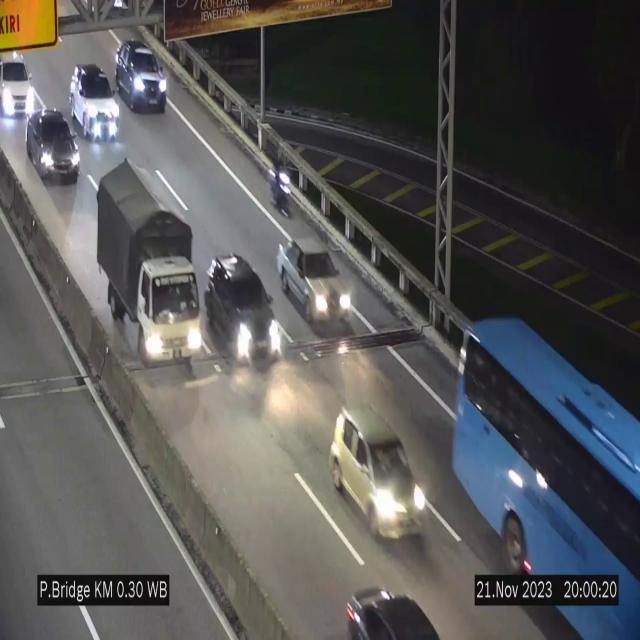Car: (326, 404, 426, 546), (202, 250, 281, 367), (277, 238, 354, 334), (24, 108, 82, 186), (70, 64, 120, 141), (115, 41, 167, 112), (0, 49, 37, 121)
Motorcycle: (267, 148, 295, 222)
Truck: (94, 153, 203, 367)
